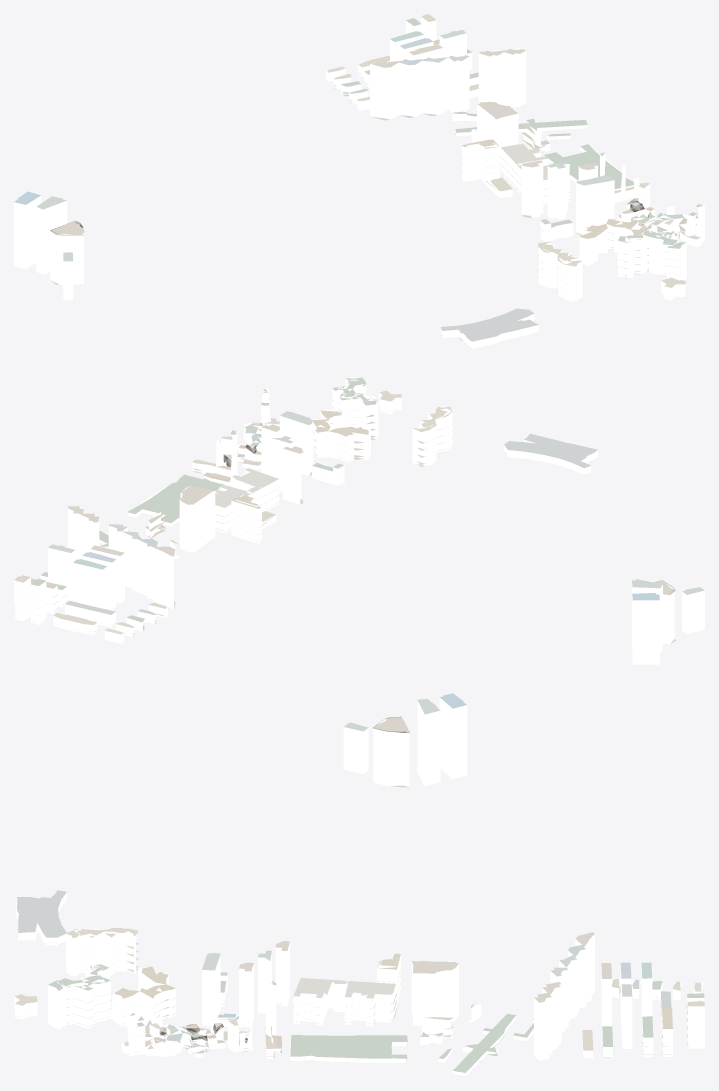
File: buildings--7_0-coarse.glb
3 views of the same model, one above another, from view 1: azimuth 30°, elevation 25°; view 2: azimuth 150°, elevation 25°; view 3: azimuth 270°, elevation 25° (orthographic). The views are drawn at different scales.
Visible parts, largest first — view 1: block_-7_0_office, block_-7_0_residential, block_-7_0_roof; view 2: block_-7_0_office, block_-7_0_residential, block_-7_0_roof; view 3: block_-7_0_residential, block_-7_0_office, block_-7_0_roof.
Boxes of the visible parts, x1,y1,x2,y2 form: block_-7_0_office: [14, 33, 665, 300]; block_-7_0_residential: [325, 17, 704, 348]; block_-7_0_roof: [14, 14, 702, 348]; block_-7_0_office: [48, 416, 704, 664]; block_-7_0_residential: [14, 377, 598, 643]; block_-7_0_roof: [14, 377, 704, 661]; block_-7_0_residential: [14, 893, 704, 1076]; block_-7_0_office: [188, 697, 652, 1060]; block_-7_0_roof: [14, 693, 704, 1076].
Size of the model in its own units: 690 by 79.49 by 650.
